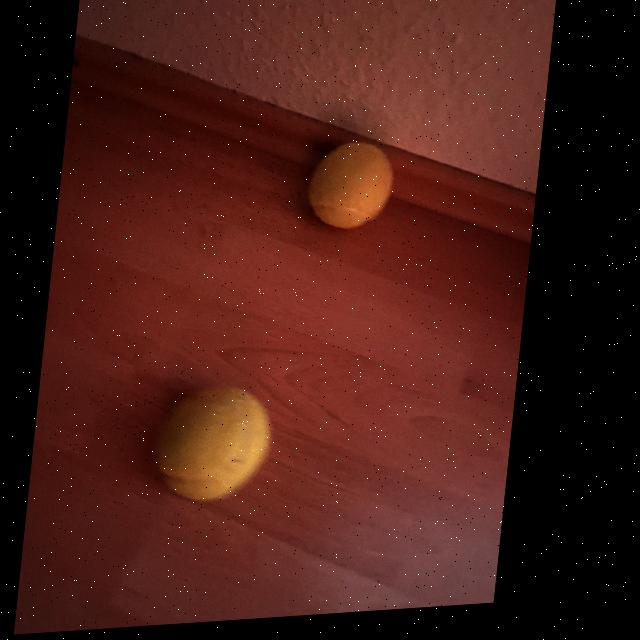Tennisball: (155, 387, 272, 502), (307, 142, 394, 229)
